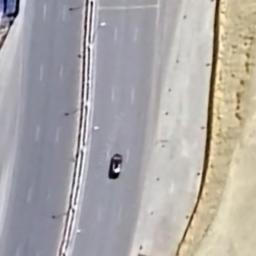sedan: (107, 152, 129, 184)
